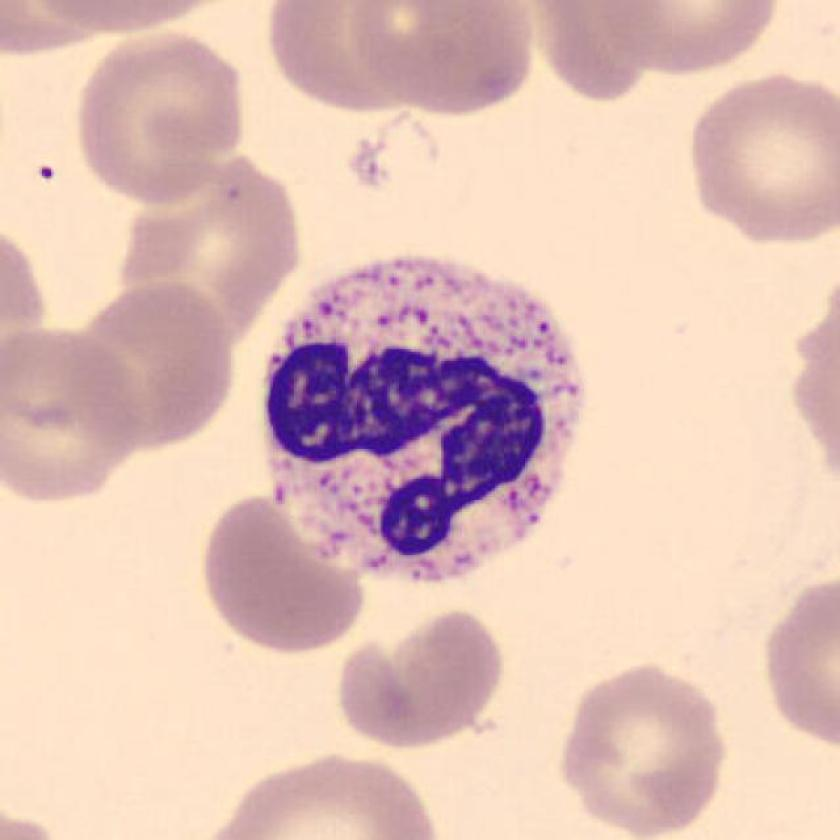neutrophil: (265, 260, 584, 583)
